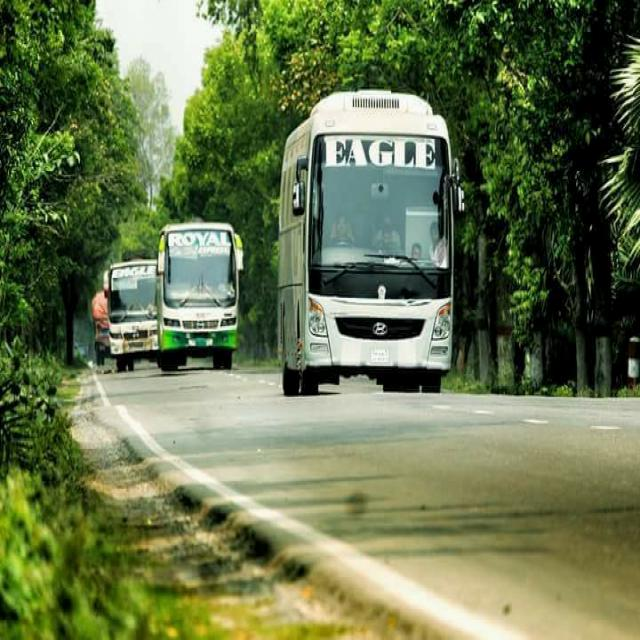bus: (276, 87, 466, 399), (156, 225, 245, 375)
